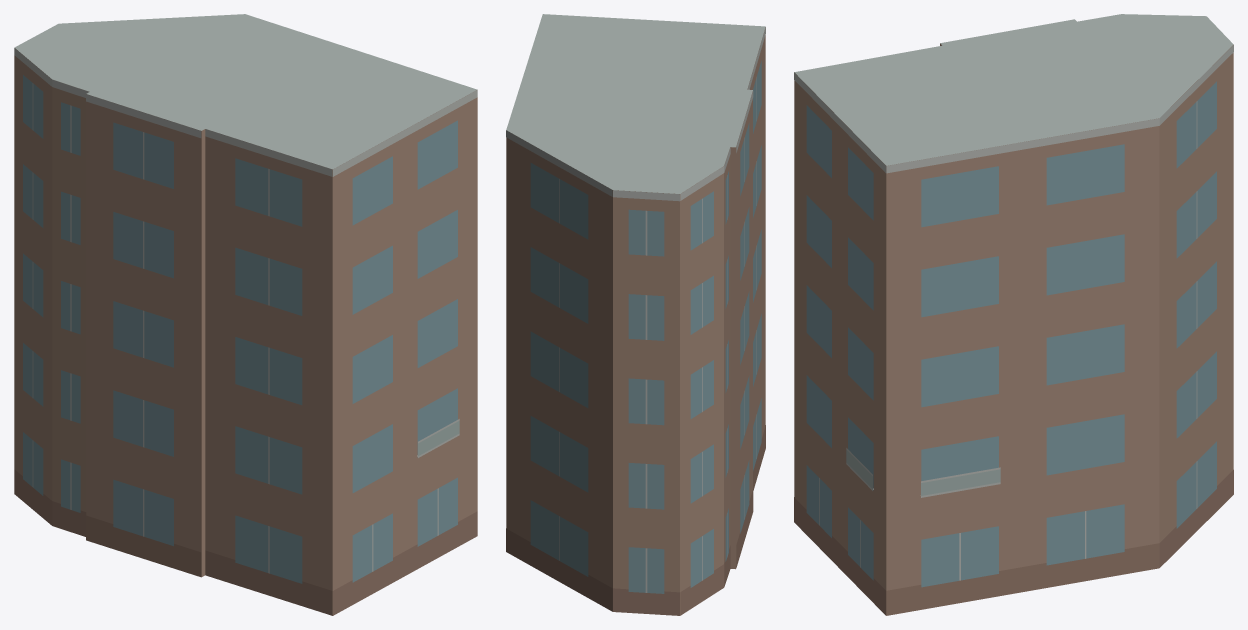
File: survey-upis-33037742.glb
3 views of the same model, side by side, from view 1: azimuth 30°, elevation 25°; view 2: azimuth 150°, elevation 25°; view 3: azimuth 270°, elevation 25° (orthographic). The views are drawn at different scales.
Visible parts, largest first — view 1: survey-upis-33037742.tmp; view 2: survey-upis-33037742.tmp; view 3: survey-upis-33037742.tmp.
Boxes of the visible parts, bbox=[...] form: survey-upis-33037742.tmp: bbox=[14, 14, 477, 615]; survey-upis-33037742.tmp: bbox=[506, 14, 765, 615]; survey-upis-33037742.tmp: bbox=[794, 14, 1233, 615].
Size of the model in its own units: 10.41 by 14.38 by 12.74.
